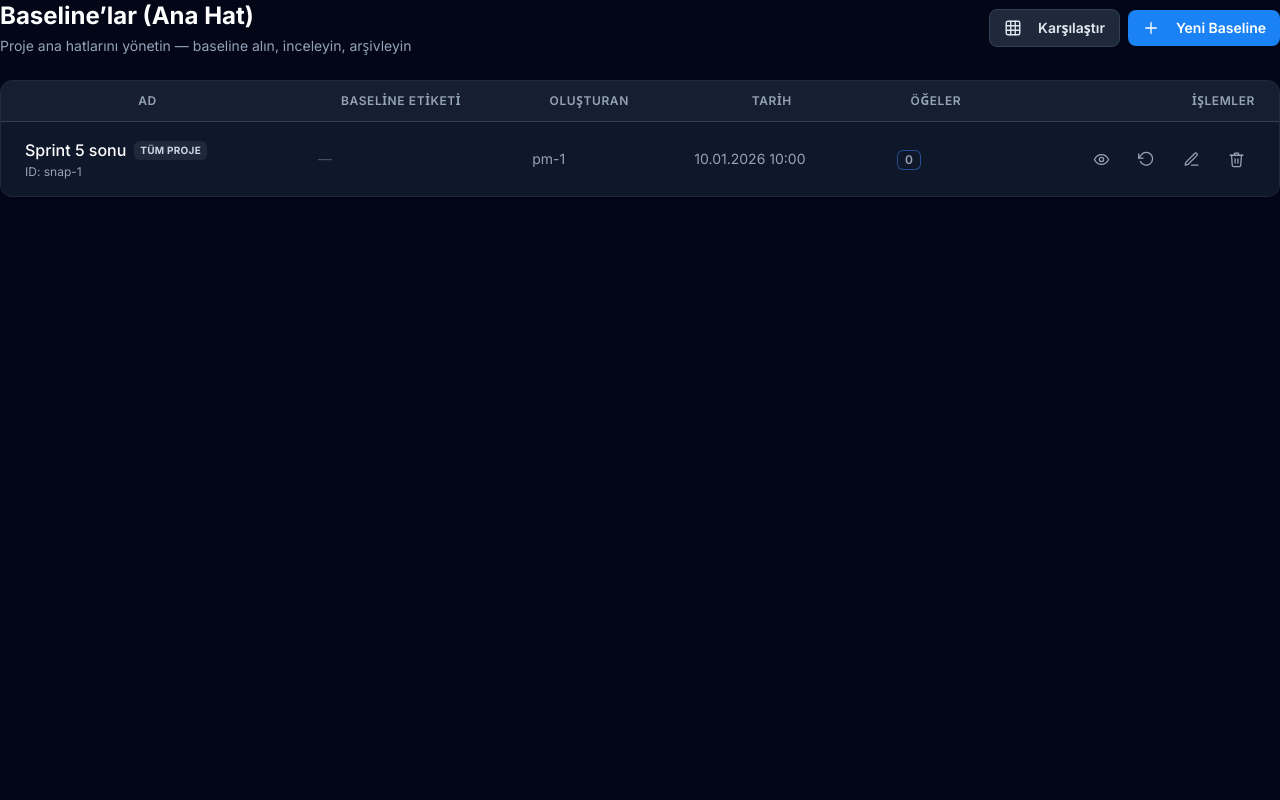
it: SnapshotDetailModal — modular öznitelikler + menü yapısı › özel (custom) öznitelik için dinamik sütun gösterir (Priority/DAL ile sabitlenmemiş)
Click the button titled "Görüntüle".
click(1102, 159)  # box [1083,144,1120,174]
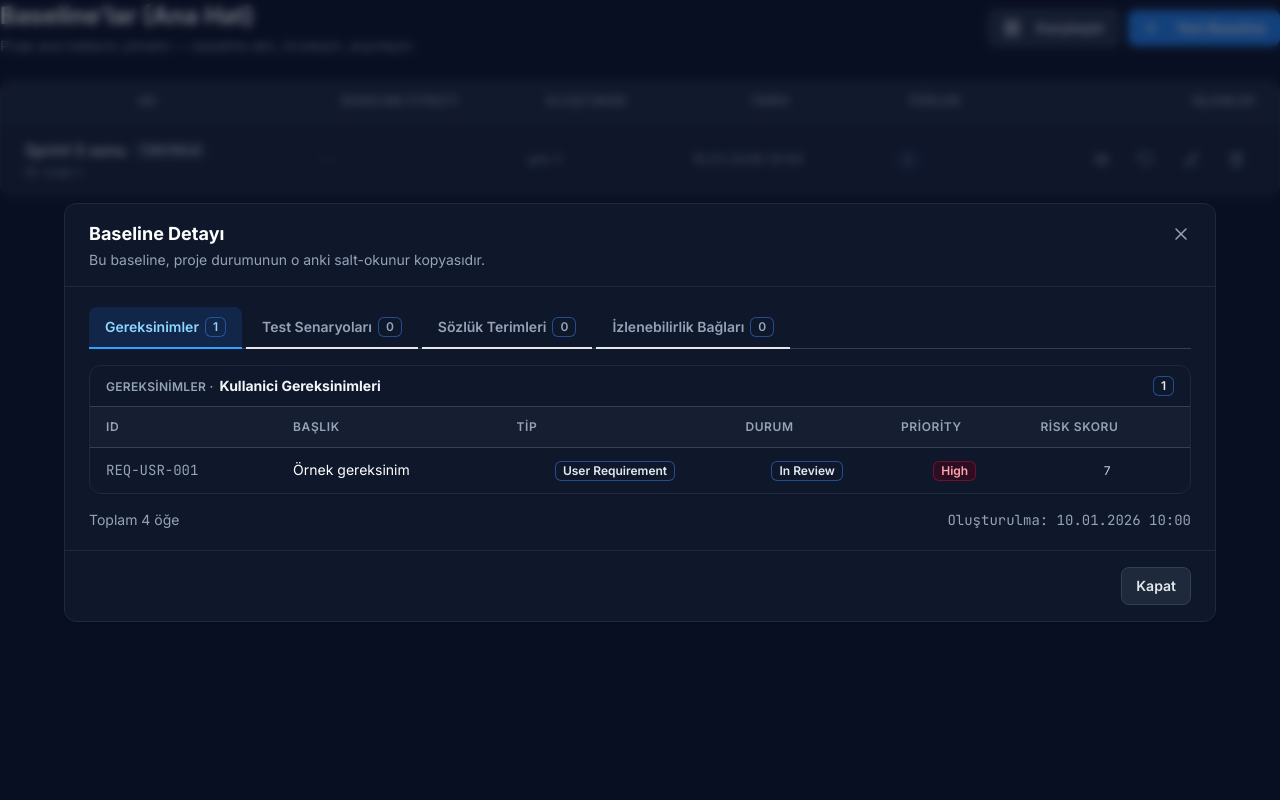
Expected: the text "REQ-USR-001" is shown, [90,447,277,492]
Expected: the column heading "Risk Skoru" is shown, [1024,406,1190,447]
Expected: the text "7" is shown, [1104,463,1111,478]
